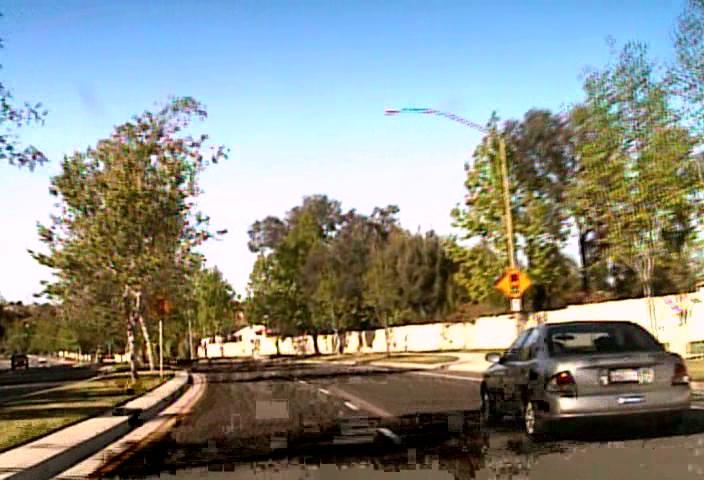signalAhead: (493, 266, 532, 298)
